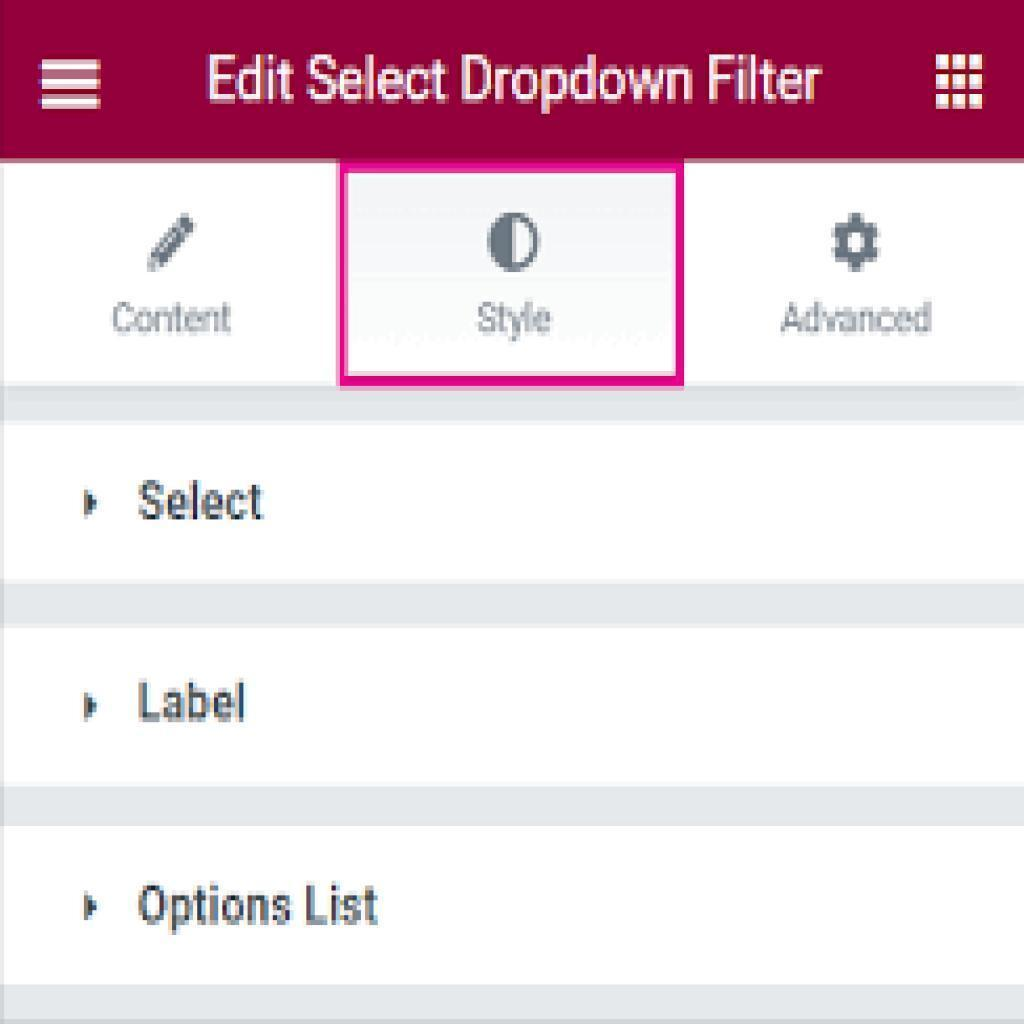button: (22, 421, 1007, 589), (19, 624, 1011, 785), (21, 834, 1008, 978)
icon: (483, 210, 550, 275), (36, 54, 104, 111), (930, 50, 988, 113), (830, 210, 883, 276), (144, 207, 196, 273)
label: (204, 47, 825, 109), (777, 296, 934, 341), (109, 297, 235, 340), (474, 294, 562, 346)
